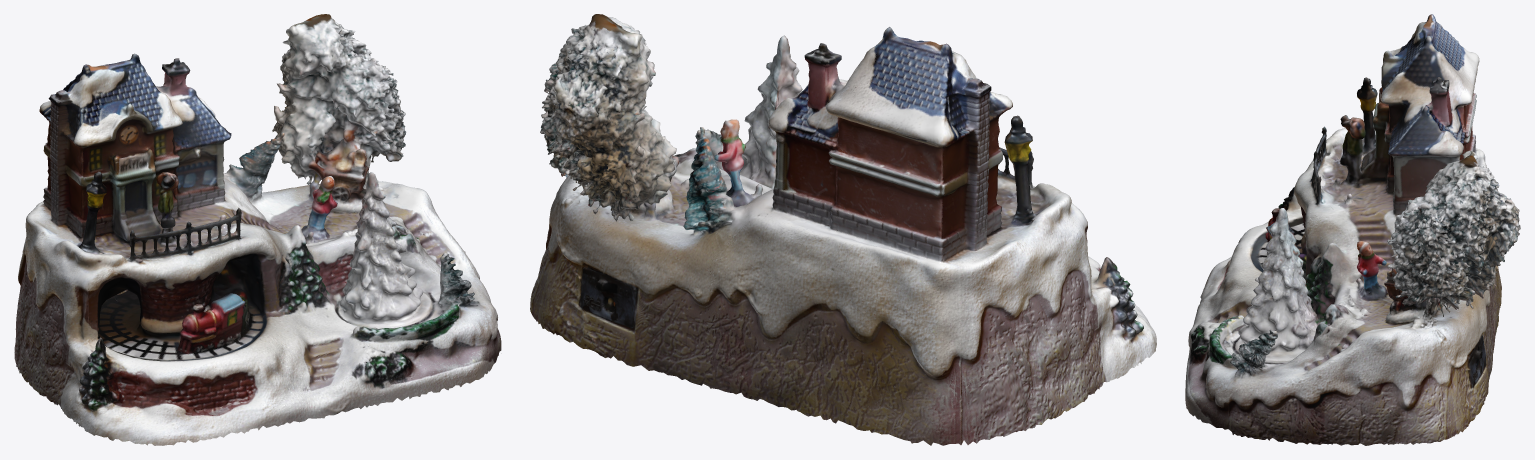
Rendered from christmas_village.glb.
The picture shows the model from 3 angles, left to right: view 1: azimuth 30°, elevation 25°; view 2: azimuth 150°, elevation 25°; view 3: azimuth 270°, elevation 25°; orthographic projection. The views are drawn at different scales.
Visible parts, largest first — view 1: export_1; view 2: export_1; view 3: export_1.
Part boxes in pixels (x1,y1,x2,y2): export_1: [14, 14, 501, 445]; export_1: [530, 14, 1156, 445]; export_1: [1185, 14, 1520, 445].
Bounding box in the file's own units: 0.4577 × 0.3044 × 0.3347.
1 material, 1 textured.
